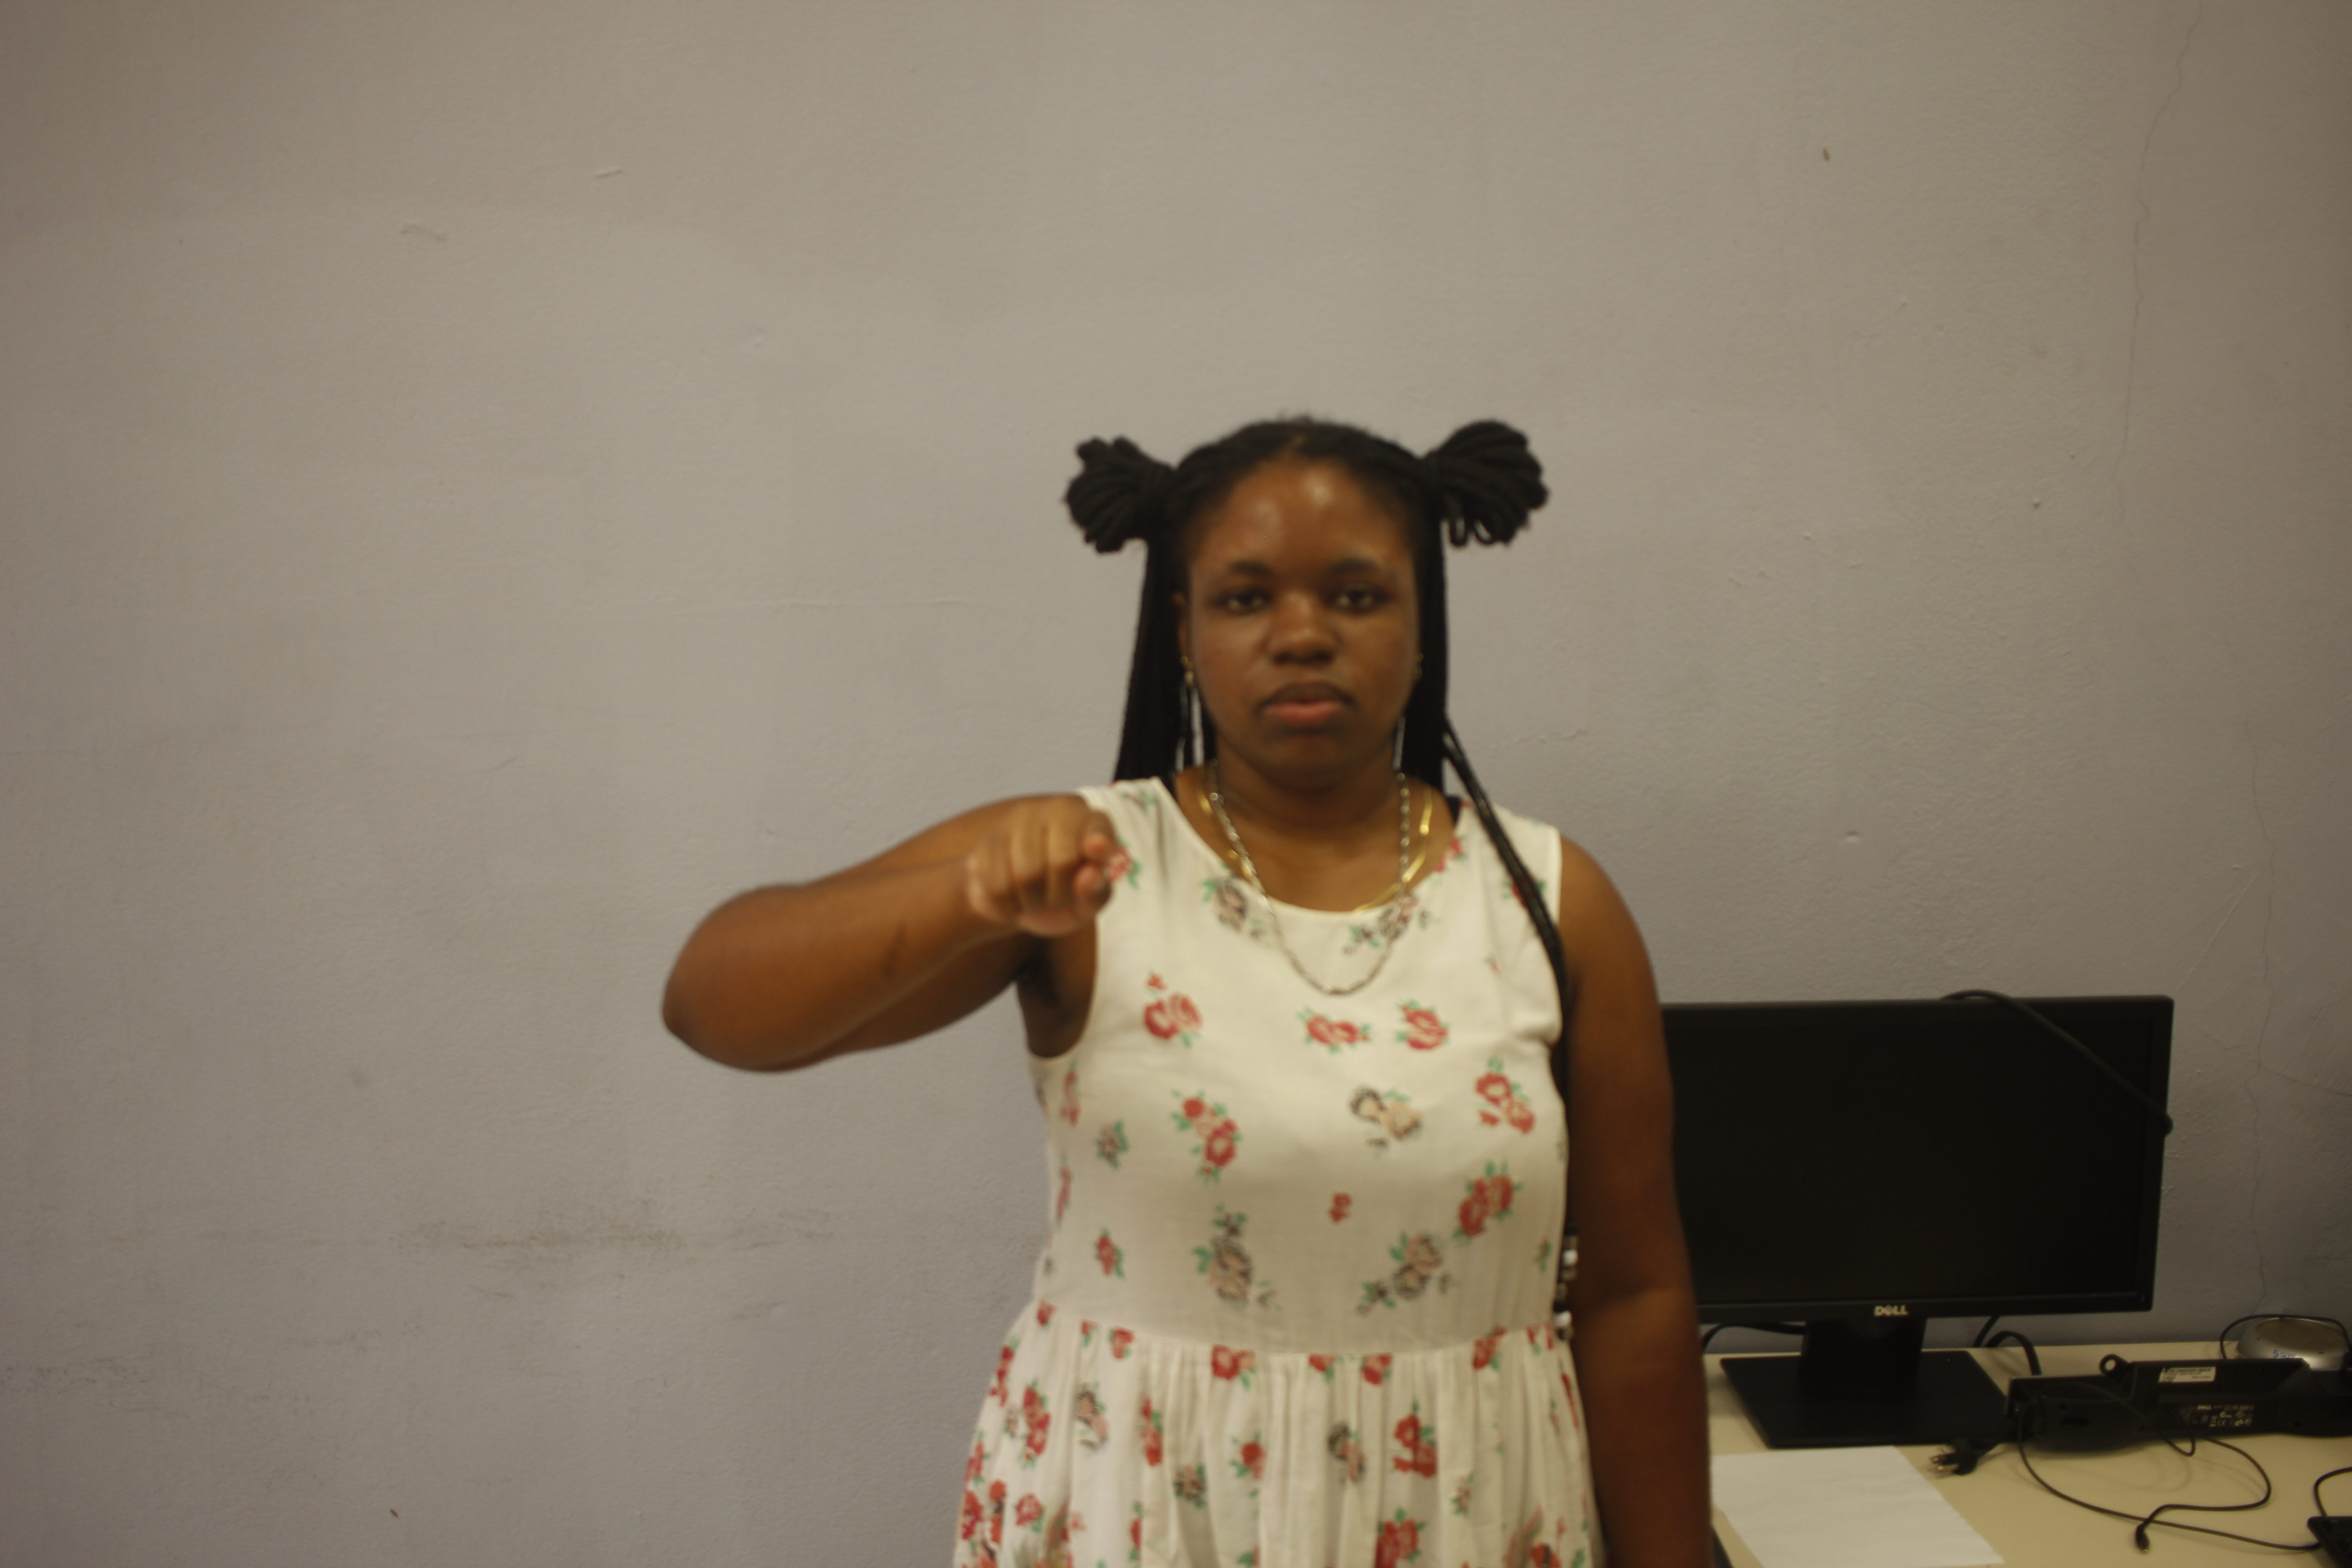point: (955, 784, 1123, 943)
